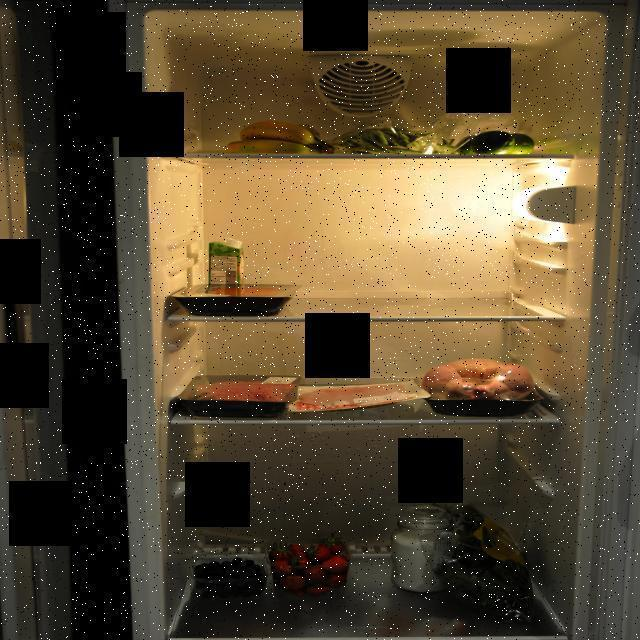banana: (222, 119, 326, 158)
beef: (170, 284, 304, 316)
blueberries: (190, 554, 264, 599)
chicken: (421, 354, 548, 418)
green_beans: (331, 117, 477, 155)
ground_beef: (175, 373, 301, 415)
ham: (298, 382, 426, 414)
heavy_cream: (206, 240, 246, 290)
lime: (462, 131, 536, 156)
spinach: (428, 500, 548, 630)
strawberries: (267, 532, 355, 598)
sugar: (389, 504, 459, 592)
